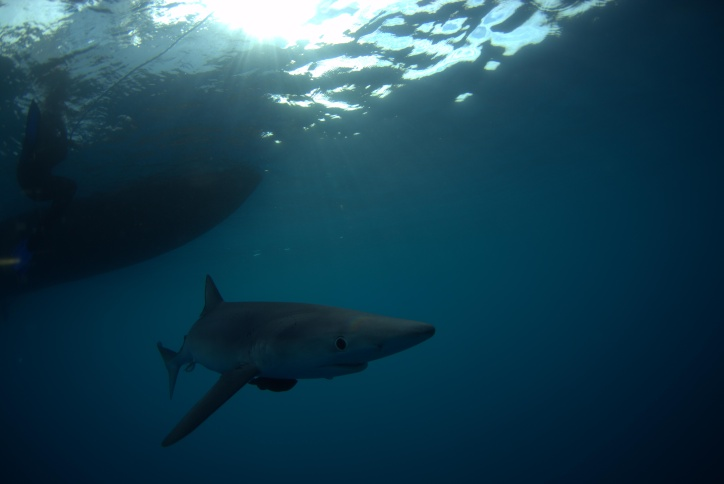Azul: (112, 249, 453, 459)
